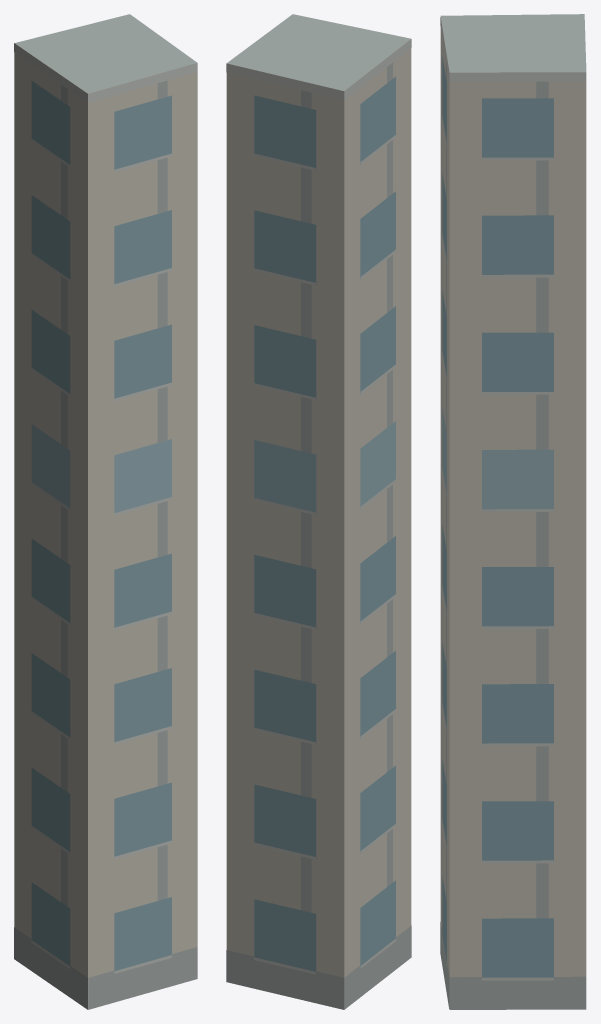
Rendered from survey-upis-32820307.glb.
The picture shows the model from 3 angles, left to right: view 1: azimuth 30°, elevation 25°; view 2: azimuth 150°, elevation 25°; view 3: azimuth 270°, elevation 25°; orthographic projection. The views are drawn at different scales.
Visible parts, largest first — view 1: survey-upis-32820307.tmp; view 2: survey-upis-32820307.tmp; view 3: survey-upis-32820307.tmp.
Boxes of the visible parts, x1,y1,x2,y2 form: survey-upis-32820307.tmp: (14,14,197,1009); survey-upis-32820307.tmp: (226,14,411,1009); survey-upis-32820307.tmp: (440,14,586,1009).
Bounding box in the file's own units: 3.28 × 24.4 × 3.45.
